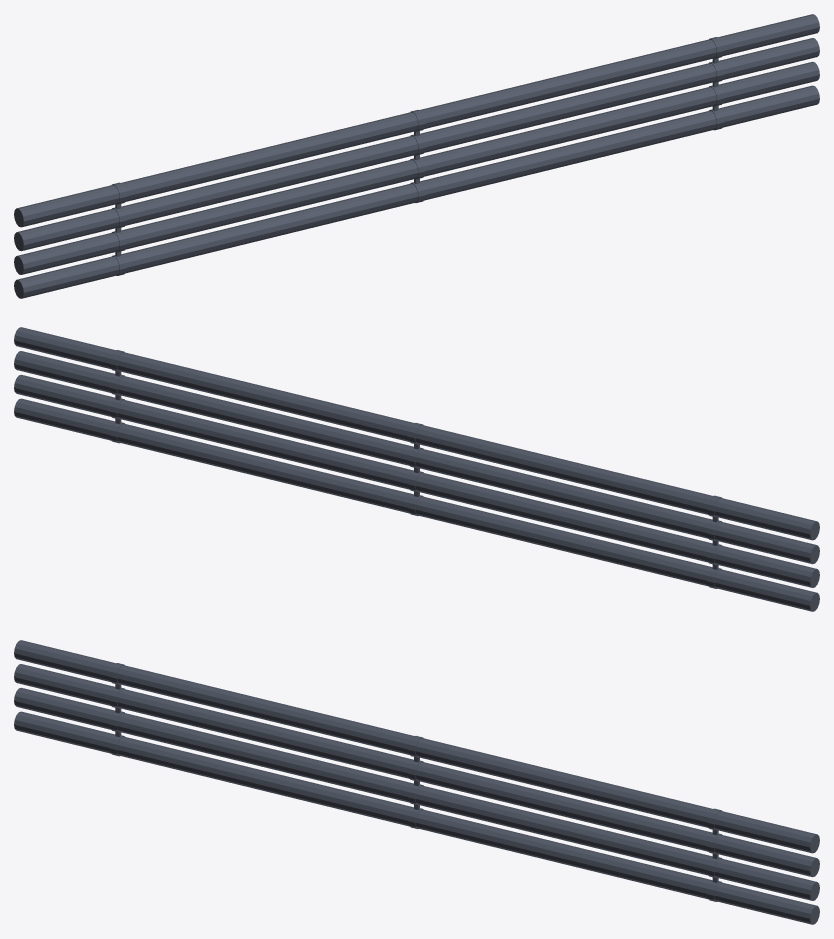
The model's file is pipes.glb.
3 renders of one model, top to bottom at view 1: azimuth 30°, elevation 25°; view 2: azimuth 150°, elevation 25°; view 3: azimuth 330°, elevation 25°, orthographic.
Visible parts, largest first — view 1: pipes; view 2: pipes; view 3: pipes.
Boxes of the visible parts, bbox=[...] form: pipes: bbox=[14, 14, 819, 298]; pipes: bbox=[14, 327, 819, 611]; pipes: bbox=[14, 640, 819, 924].
Bounding box in the file's own units: 5.6 × 0.608 × 0.128.
